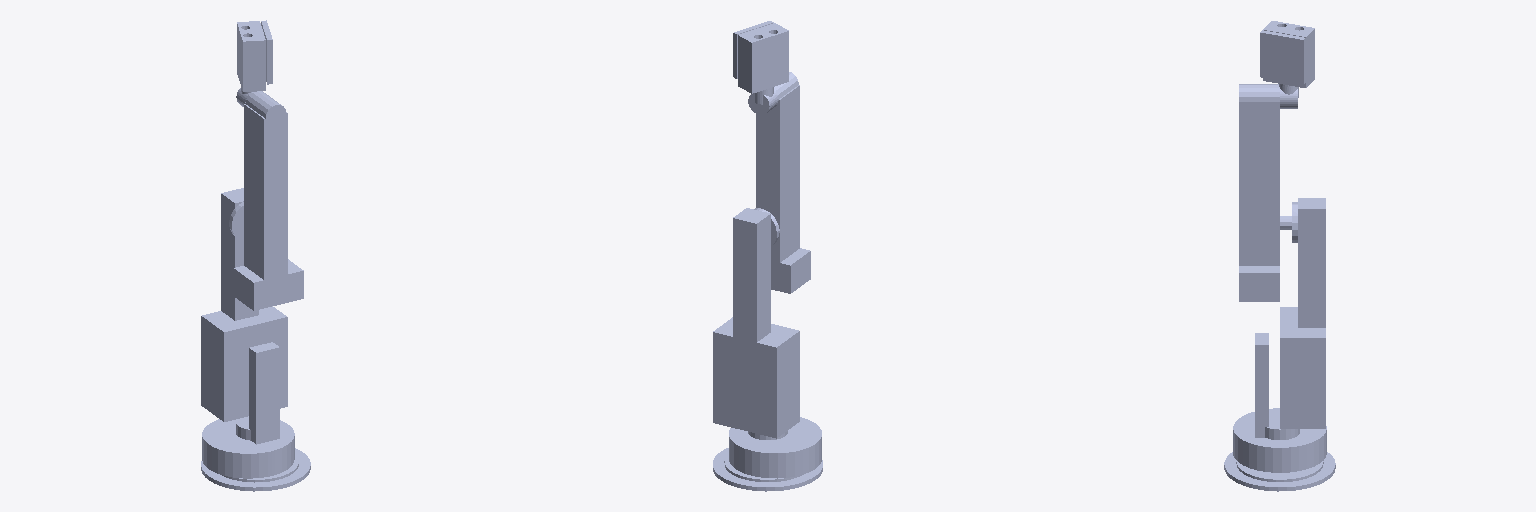
URDF robot description (edwin):
<robot
	name="edwin">
	<link
		name="base_link">
		<inertial>
			<origin
				xyz="-3.7358E-35 -2.529E-18 0.0088139"
				rpy="0 0 0" />
			<mass
				value="1.1856" />
			<inertia
				ixx="0.0059712"
				ixy="4.603E-36"
				ixz="3.0666E-36"
				iyy="0.0059712"
				iyz="-3.325E-19"
				izz="0.011871" />
		</inertial>
		<visual>
			<origin
				xyz="0 0 0"
				rpy="0 0 0" />
			<geometry>
				<mesh
					filename="package://edwin_description/meshes/base_link.STL" />
			</geometry>
			<material
				name="">
				<color
					rgba="0.79216 0.81961 0.93333 1" />
			</material>
		</visual>
		<collision>
			<origin
				xyz="0 0 0"
				rpy="0 0 0" />
			<geometry>
				<mesh
					filename="package://edwin_description/meshes/base_link.STL" />
			</geometry>
		</collision>
	</link>
	<link
		name="link_1">
		<inertial>
			<origin
				xyz="-0.018367 -0.0077664 0.069822"
				rpy="0 0 0" />
			<mass
				value="4.8214" />
			<inertia
				ixx="0.044516"
				ixy="-0.00066637"
				ixz="0.0028019"
				iyy="0.04368"
				iyz="-0.0055911"
				izz="0.03291" />
		</inertial>
		<visual>
			<origin
				xyz="0 0 0"
				rpy="0 0 0" />
			<geometry>
				<mesh
					filename="package://edwin_description/meshes/link_1.STL" />
			</geometry>
			<material
				name="">
				<color
					rgba="0.79216 0.81961 0.93333 1" />
			</material>
		</visual>
		<collision>
			<origin
				xyz="0 0 0"
				rpy="0 0 0" />
			<geometry>
				<mesh
					filename="package://edwin_description/meshes/link_1.STL" />
			</geometry>
		</collision>
	</link>
	<joint
		name="waist"
		type="revolute">
		<limit effort="1000.0" lower="-3.1" upper="3.1" velocity="0.5"/>
		<origin
			xyz="0 0 0.033268"
			rpy="-6.123E-17 0 0" />
		<parent
			link="base_link" />
		<child
			link="link_1" />
		<axis
			xyz="0 0 -1" />
	</joint>
	<link
		name="link_2">
		<inertial>
			<origin
				xyz="-0.022066 -4.0835E-17 0.067318"
				rpy="0 0 0" />
			<mass
				value="9.0027" />
			<inertia
				ixx="0.034679"
				ixy="-8.5117E-17"
				ixz="-0.009359"
				iyy="0.25195"
				iyz="-2.7279E-18"
				izz="0.26459" />
		</inertial>
		<visual>
			<origin
				xyz="0 0 0"
				rpy="0 0 0" />
			<geometry>
				<mesh
					filename="package://edwin_description/meshes/link_2.STL" />
			</geometry>
			<material
				name="">
				<color
					rgba="0.79216 0.81961 0.93333 1" />
			</material>
		</visual>
		<collision>
			<origin
				xyz="0 0 0"
				rpy="0 0 0" />
			<geometry>
				<mesh
					filename="package://edwin_description/meshes/link_2.STL" />
			</geometry>
		</collision>
	</link>
	<joint
		name="shoulder"
		type="continuous">
		<origin
			xyz="0 0 0.32173"
			rpy="1.5708 1.5708 3.1416" />
		<parent
			link="link_1" />
		<child
			link="link_2" />
		<axis
			xyz="0 0 1" />
	</joint>
	<link
		name="link_3">
		<inertial>
			<origin
				xyz="-0.066663 -0.0021716 -0.055074"
				rpy="0 0 0" />
			<mass
				value="5.6787" />
			<inertia
				ixx="0.010806"
				ixy="-0.0027104"
				ixz="-1.384E-18"
				iyy="0.19386"
				iyz="3.9661E-18"
				izz="0.19319" />
		</inertial>
		<visual>
			<origin
				xyz="0 0 0"
				rpy="0 0 0" />
			<geometry>
				<mesh
					filename="package://edwin_description/meshes/link_3.STL" />
			</geometry>
			<material
				name="">
				<color
					rgba="0.79216 0.81961 0.93333 1" />
			</material>
		</visual>
		<collision>
			<origin
				xyz="0 0 0"
				rpy="0 0 0" />
			<geometry>
				<mesh
					filename="package://edwin_description/meshes/link_3.STL" />
			</geometry>
		</collision>
	</link>
	<joint
		name="elbow"
		type="continuous">
		<origin
			xyz="-0.375 0 0"
			rpy="0 0 -1.1442E-17" />
		<parent
			link="link_2" />
		<child
			link="link_3" />
		<axis
			xyz="0 0 1" />
	</joint>
	<link
		name="link_4">
		<inertial>
			<origin
				xyz="0.00548 2.769E-08 -0.0244"
				rpy="0 0 0" />
			<mass
				value="0.20197" />
			<inertia
				ixx="9.4725E-05"
				ixy="2.5567E-10"
				ixz="1.0595E-21"
				iyy="0.00012085"
				iyz="3.6338E-10"
				izz="0.00013378" />
		</inertial>
		<visual>
			<origin
				xyz="0 0 0"
				rpy="0 0 0" />
			<geometry>
				<mesh
					filename="package://edwin_description/meshes/link_4.STL" />
			</geometry>
			<material
				name="">
				<color
					rgba="0.79216 0.81961 0.93333 1" />
			</material>
		</visual>
		<collision>
			<origin
				xyz="0 0 0"
				rpy="0 0 0" />
			<geometry>
				<mesh
					filename="package://edwin_description/meshes/link_4.STL" />
			</geometry>
		</collision>
	</link>
	<joint
		name="hand"
		type="continuous">
		<origin
			xyz="-0.375 0 0"
			rpy="3.1416 0 3.1416" />
		<parent
			link="link_3" />
		<child
			link="link_4" />
		<axis
			xyz="0 0 -1" />
	</joint>
	<link
		name="link_5">
		<inertial>
			<origin
				xyz="0.079318 1.7347E-17 -0.00054796"
				rpy="0 0 0" />
			<mass
				value="1.1932" />
			<inertia
				ixx="0.002025"
				ixy="8.945E-21"
				ixz="-3.5327E-05"
				iyy="0.0027263"
				iyz="0"
				izz="0.0039407" />
		</inertial>
		<visual>
			<origin
				xyz="0 0 0"
				rpy="0 0 0" />
			<geometry>
				<mesh
					filename="package://edwin_description/meshes/link_5.STL" />
			</geometry>
			<material
				name="">
				<color
					rgba="0.79216 0.81961 0.93333 1" />
			</material>
		</visual>
		<collision>
			<origin
				xyz="0 0 0"
				rpy="0 0 0" />
			<geometry>
				<mesh
					filename="package://edwin_description/meshes/link_5.STL" />
			</geometry>
		</collision>
	</link>
	<joint
		name="wrist"
		type="continuous">
		<origin
			xyz="0.042405 0 -0.0244"
			rpy="-1.9635 6.137E-31 -1.6653E-16" />
		<parent
			link="link_4" />
		<child
			link="link_5" />
		<axis
			xyz="1 0 0" />
	</joint>
	<link
		name="jaw_link">
		<inertial>
			<origin
				xyz="-0.066675 8.6736E-17 -0.0079375"
				rpy="0 0 0" />
			<mass
				value="0.26885" />
			<inertia
				ixx="0.000367"
				ixy="-7.8813E-21"
				ixz="-9.1216E-21"
				iyy="0.00040404"
				iyz="-4.0658E-20"
				izz="0.00075975" />
		</inertial>
		<visual>
			<origin
				xyz="0 0 0"
				rpy="0 0 0" />
			<geometry>
				<mesh
					filename="package://edwin_description/meshes/jaw_link.STL" />
			</geometry>
			<material
				name="">
				<color
					rgba="0.79216 0.81961 0.93333 1" />
			</material>
		</visual>
		<collision>
			<origin
				xyz="0 0 0"
				rpy="0 0 0" />
			<geometry>
				<mesh
					filename="package://edwin_description/meshes/jaw_link.STL" />
			</geometry>
		</collision>
	</link>
	<joint
		name="jaw_joint"
		type="fixed">
		<origin
			xyz="0.15875 0 -0.034925"
			rpy="0 1.2326E-32 2.0251E-16" />
		<parent
			link="link_5" />
		<child
			link="jaw_link" />
		<axis
			xyz="0 1 0" />
	</joint>
	<transmission name="trans_1">
		<type>transmission_interface/SimpleTransmission</type>
		<joint name="waist">
			<hardwareInterface>PositionJointInterface</hardwareInterface>
		</joint>
		<actuator name="motor_1">
			<hardwareInterface>PositionJointInterface</hardwareInterface>
		</actuator>
	</transmission>
	<transmission name="trans_2">
		<type>transmission_interface/SimpleTransmission</type>
		<joint name="shoulder">
			<hardwareInterface>PositionJointInterface</hardwareInterface>
		</joint>
		<actuator name="motor_2">
			<hardwareInterface>PositionJointInterface</hardwareInterface>
		</actuator>
	</transmission>
	<transmission name="trans_3">
		<type>transmission_interface/SimpleTransmission</type>
		<joint name="elbow">
			<hardwareInterface>PositionJointInterface</hardwareInterface>
		</joint>
		<actuator name="motor_3">
			<hardwareInterface>PositionJointInterface</hardwareInterface>
		</actuator>
	</transmission>
	<transmission name="trans_4">
		<type>transmission_interface/SimpleTransmission</type>
		<joint name="hand">
			<hardwareInterface>PositionJointInterface</hardwareInterface>
		</joint>
		<actuator name="motor_4">
			<hardwareInterface>PositionJointInterface</hardwareInterface>
		</actuator>
	</transmission>
	<transmission name="trans_5">
		<type>transmission_interface/SimpleTransmission</type>
		<joint name="wrist">
			<hardwareInterface>PositionJointInterface</hardwareInterface>
		</joint>
		<actuator name="motor_5">
			<hardwareInterface>PositionJointInterface</hardwareInterface>
		</actuator>
	</transmission>

</robot>

--- Facts derived from the render (not from the file) ---
Views: 3 orthographic renders of the robot side by side, from view 1: azimuth 30°, elevation 25°; view 2: azimuth 150°, elevation 25°; view 3: azimuth 270°, elevation 25°.
Model edwin with 7 links and 6 joints (1 revolute, 4 continuous, 1 fixed), rooted at base_link, posed all joints at 0.
Links seen in each view (by area): view 1: link_3, link_2, link_1, link_5, base_link; view 2: link_2, link_3, link_1, link_5, base_link, link_4; view 3: link_2, link_3, link_1, base_link, jaw_link, link_5.
Link boxes in pixels (x1,y1,x2,y2): link_3: (234, 91, 303, 310); link_2: (201, 188, 287, 421); link_1: (202, 342, 294, 478); link_5: (237, 21, 265, 91); base_link: (201, 448, 310, 491); link_2: (713, 208, 799, 438); link_3: (756, 72, 810, 293); link_1: (729, 417, 821, 478); link_5: (738, 23, 788, 93); base_link: (713, 448, 822, 491); link_4: (748, 87, 778, 114); link_2: (1280, 198, 1325, 428); link_3: (1239, 84, 1279, 301); link_1: (1233, 333, 1326, 472); base_link: (1224, 452, 1335, 491); jaw_link: (1260, 30, 1305, 84); link_5: (1263, 21, 1314, 87).
Size in the robot's own frame: 0.2998 by 0.3 by 1.31 metres.
7 mesh visuals loaded from 7 distinct referenced files (7 binary STL).
